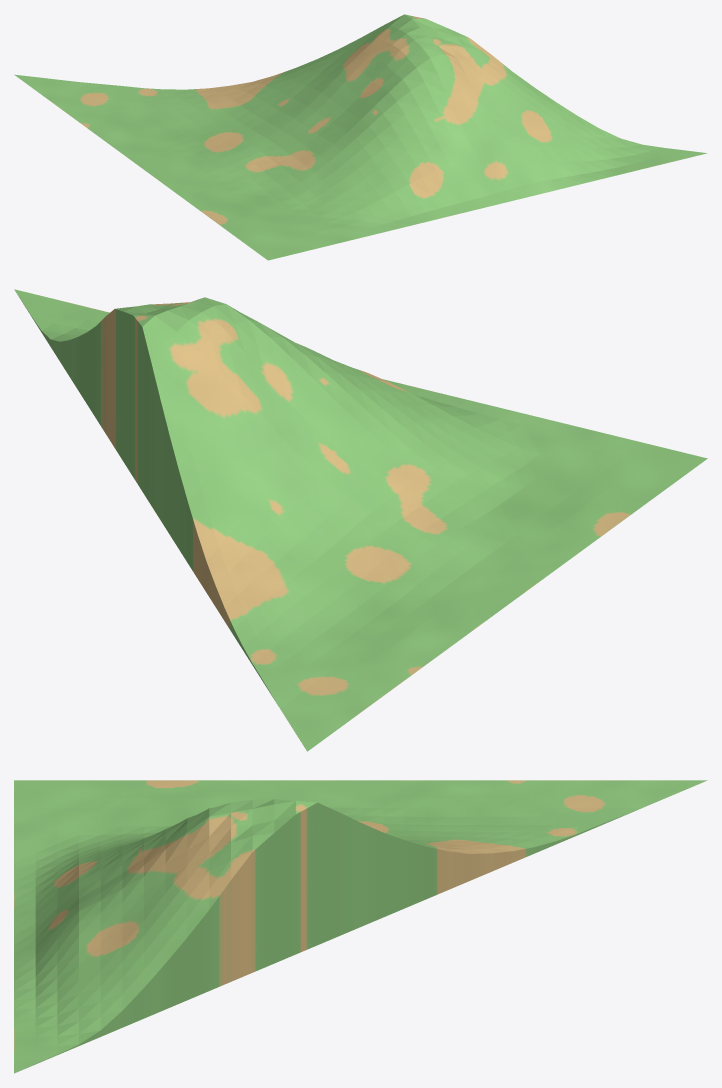
Rendered from Grass_Hills_05_NW.obj.
3 views of the same model, one above another, from view 1: azimuth 30°, elevation 25°; view 2: azimuth 150°, elevation 25°; view 3: azimuth 270°, elevation 25° (orthographic). The views are drawn at different scales.
Size of the model in its own units: 10 by 2.29 by 10.
1 material, 1 textured.
